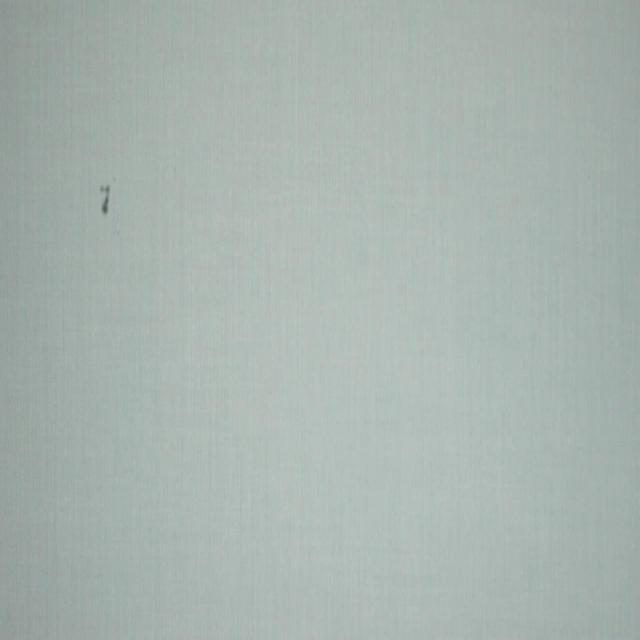dirty: (99, 181, 112, 215)
